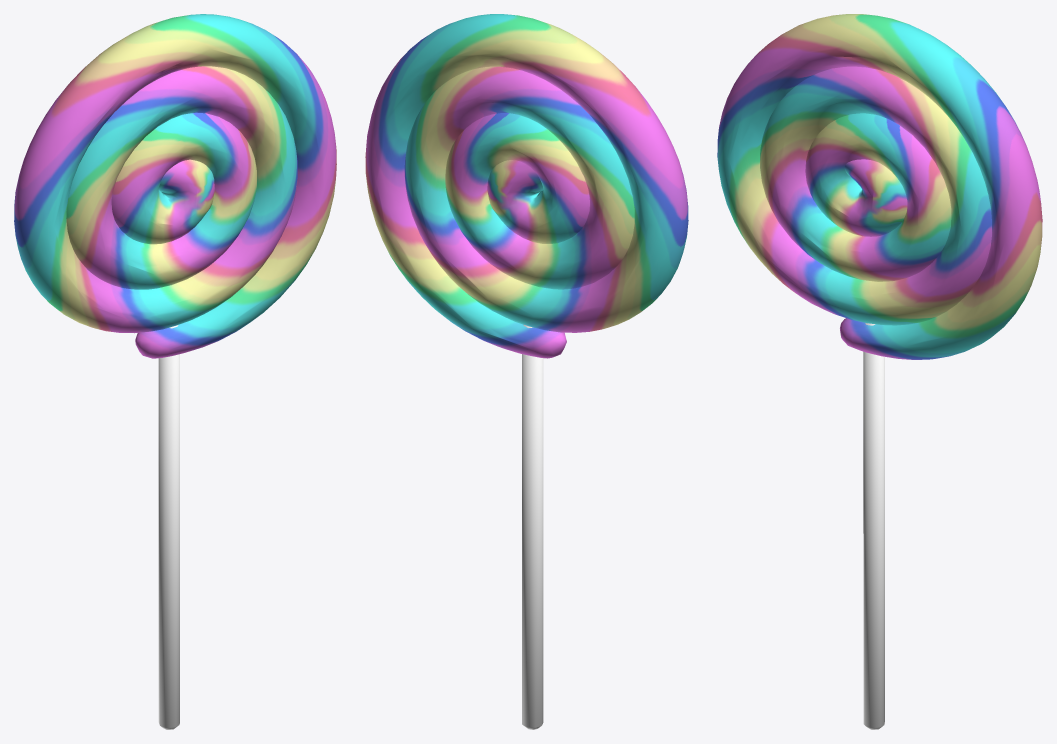
File: lollipop.fbx
The picture shows the model from 3 angles, left to right: view 1: azimuth 30°, elevation 25°; view 2: azimuth 150°, elevation 25°; view 3: azimuth 330°, elevation 25°; orthographic projection.
Parts seen in each view (by area): view 1: lolipop; view 2: lolipop; view 3: lolipop.
Part boxes in pixels (left/top/right/bottom): lolipop: left=14, top=14, right=336, bottom=729; lolipop: left=365, top=14, right=688, bottom=729; lolipop: left=717, top=14, right=1042, bottom=729.
Size of the model in its own units: 99.71 by 213 by 16.04.
1 material, 1 textured.
